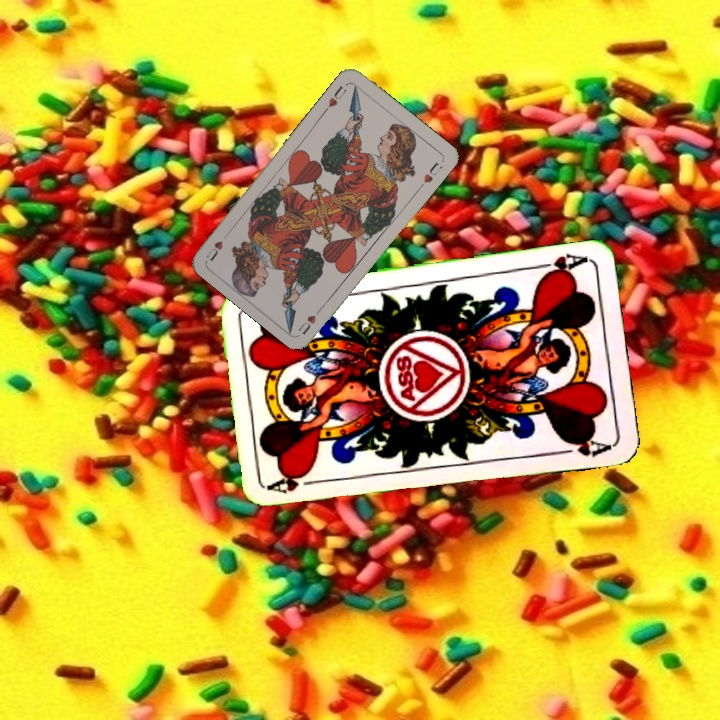HA: (530, 249, 589, 281), (266, 473, 326, 496)
HU: (294, 302, 326, 337), (320, 81, 349, 114)
